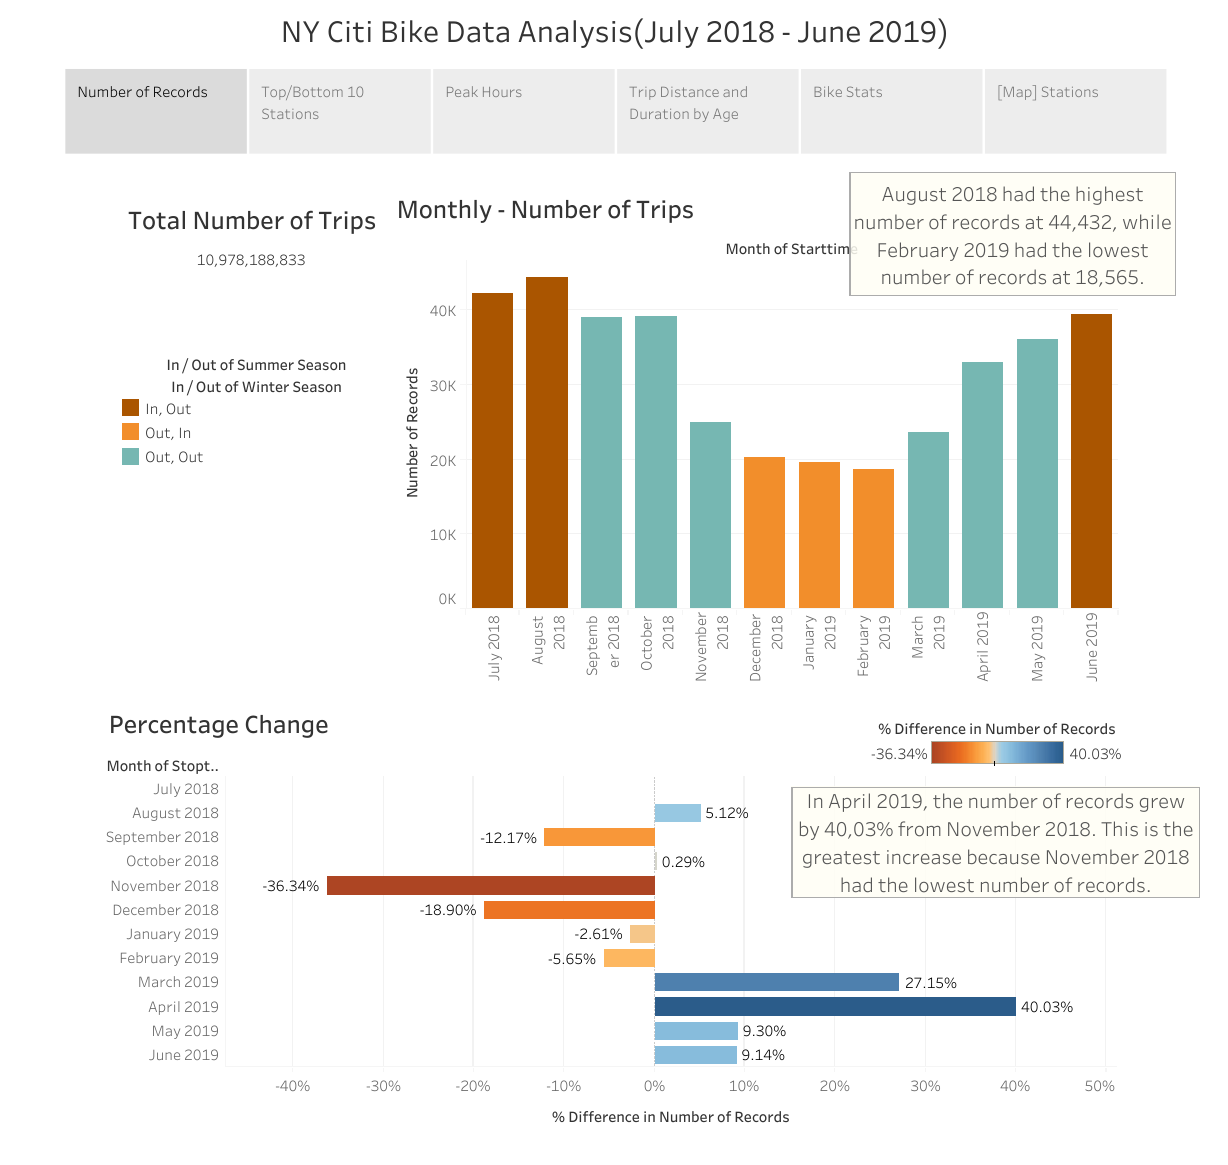

Layout of this report page (visuals, bound fields, positions):
{"tool":"tableau","page":{"name":"Monthly Records","canvas":[1000,1000],"units":"permille","ordinal":2},"visuals":[{"type":"worksheet","title":"Numbers of Trips","mark":"Bar","rows":["Calculation_2171298008309485579"],"cols":["starttime"],"box":[283.1,10.5,706.1,508.8]},{"type":"legend","title":"Numbers of Trips","param":"[federated.06t6mmk1ta8xqx1g6an2d0cdsx3z].[io:Summer Season:nk]\n[federated.06t6mm","box":[17.7,180.9,265.9,121.4]},{"type":"worksheet","title":"Percentage Change","mark":"Bar","rows":["stoptime"],"cols":["Calculation_2171298008309485579"],"box":[3.1,535.6,984.6,456.2]},{"type":"legend","title":"Percentage Change","param":"[federated.06t6mmk1ta8xqx1g6an2d0cdsx3z].[pcdf:sum:Calculation_21712980083094855","box":[744.7,548.4,254.1,59.5]}]}

Visuals, with their boxes on the dashboard's canvas, which has no fixed pixel size, in thousandths of its width and height (x1, y1, x2, y2). These are canvas units, not pixel positions in the 1228x1165 screenshot, which may show the page scaled, cropped or inside an application window:
"Numbers of Trips" worksheet (Bar marks): Rect(283, 10, 989, 519)
"Numbers of Trips" legend: Rect(18, 181, 284, 302)
"Percentage Change" worksheet (Bar marks): Rect(3, 536, 988, 992)
"Percentage Change" legend: Rect(745, 548, 999, 608)
